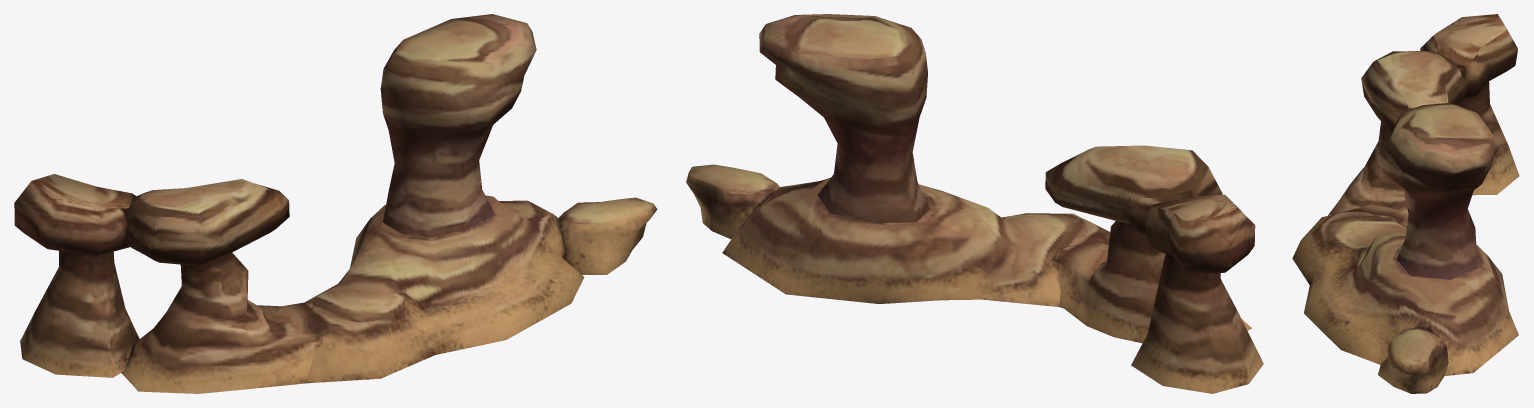
File: shitou04.FBX
3 views of the same model, side by side, from view 1: azimuth 30°, elevation 25°; view 2: azimuth 150°, elevation 25°; view 3: azimuth 270°, elevation 25° (orthographic). The views are drawn at different scales.
Parts seen in each view (by area): view 1: shitou04; view 2: shitou04; view 3: shitou04.
Part boxes in pixels (x1,y1,x2,y2): shitou04: (14, 14, 657, 393); shitou04: (686, 14, 1263, 393); shitou04: (1292, 14, 1519, 393).
Bounding box in the file's own units: 498 × 189 × 189.
